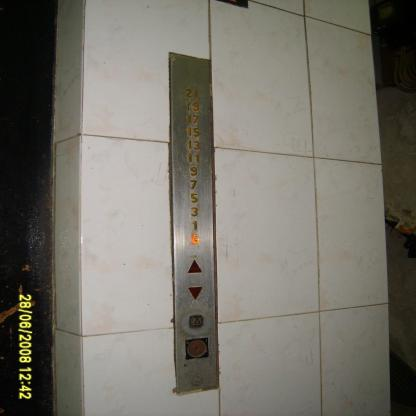down: (188, 286, 202, 300)
keyhole: (185, 338, 208, 360)
up: (188, 314, 204, 328), (187, 259, 202, 273)
